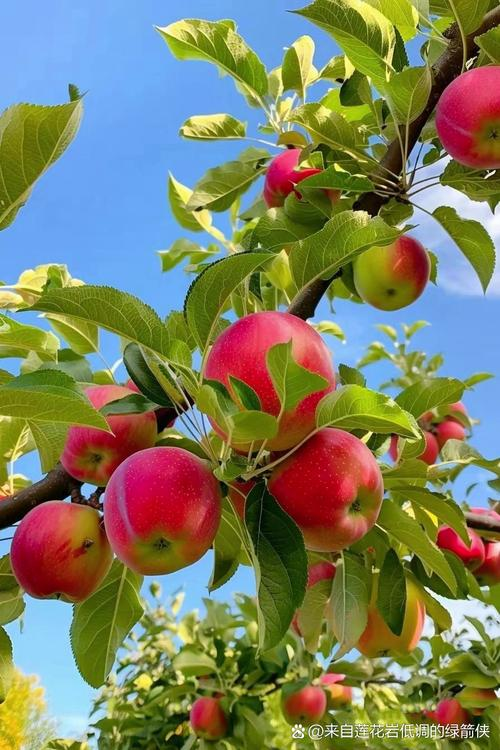ripe: (180, 304, 341, 461), (226, 434, 386, 553), (77, 448, 228, 574), (8, 496, 109, 610), (52, 383, 159, 480), (425, 69, 500, 170), (350, 226, 434, 316)
unripe: (339, 564, 442, 654)
